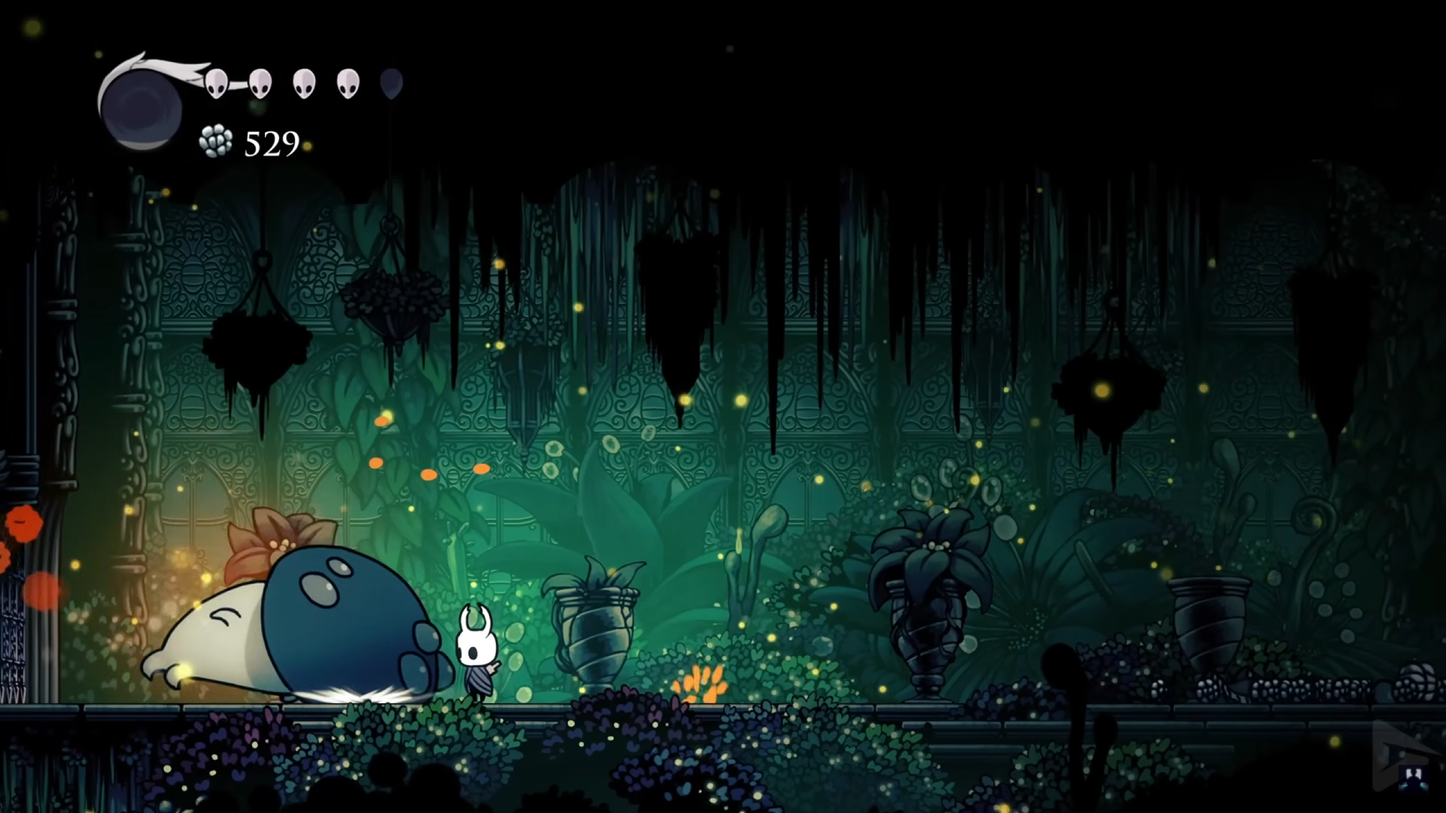HK: (450, 598, 506, 705)
